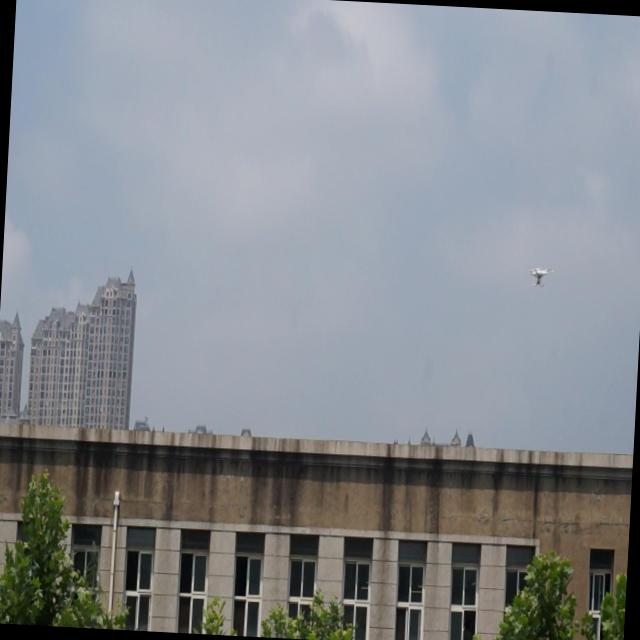drone: (527, 263, 553, 290)
